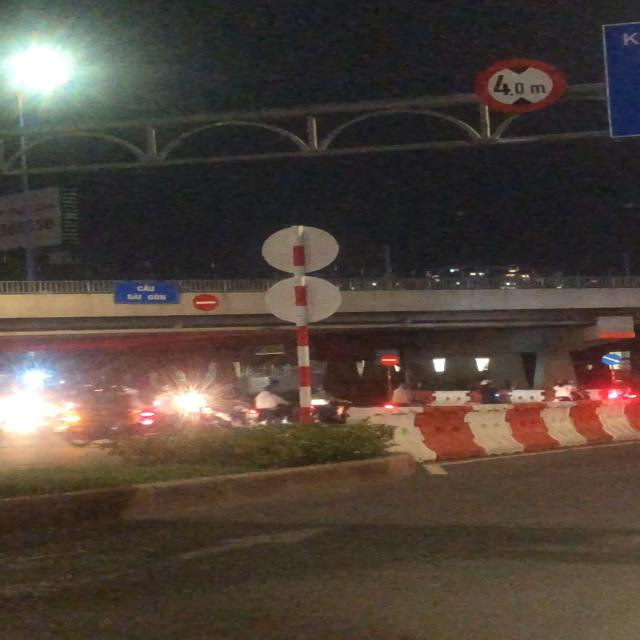Bien bao cam di nguoc chieu: (190, 292, 222, 311), (378, 353, 402, 368)
Bien bao han che chieu cao: (469, 56, 573, 117)
Bien bao huong phai di vong chuong ngai vat: (599, 353, 624, 366)
